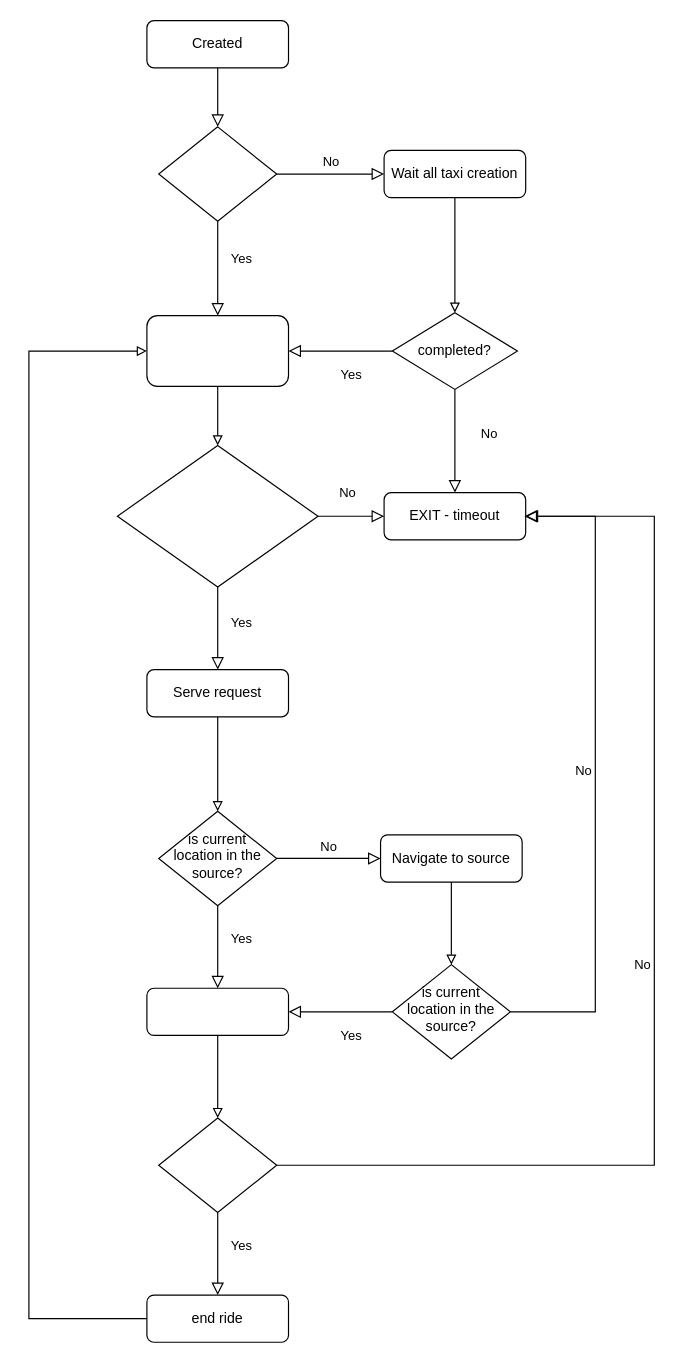
The diagram is 687 pixels wide and 1363 high, and some of its shapes have lost their labels. Each missing label, with the box of its shape:
is current location in the destination?: (158, 1117, 277, 1212)
is respawned?: (158, 126, 277, 221)
Navigate to destination: (146, 987, 289, 1035)
received request before TIMEOUT?: (116, 444, 318, 587)
waiting for ride request: (146, 314, 289, 386)
